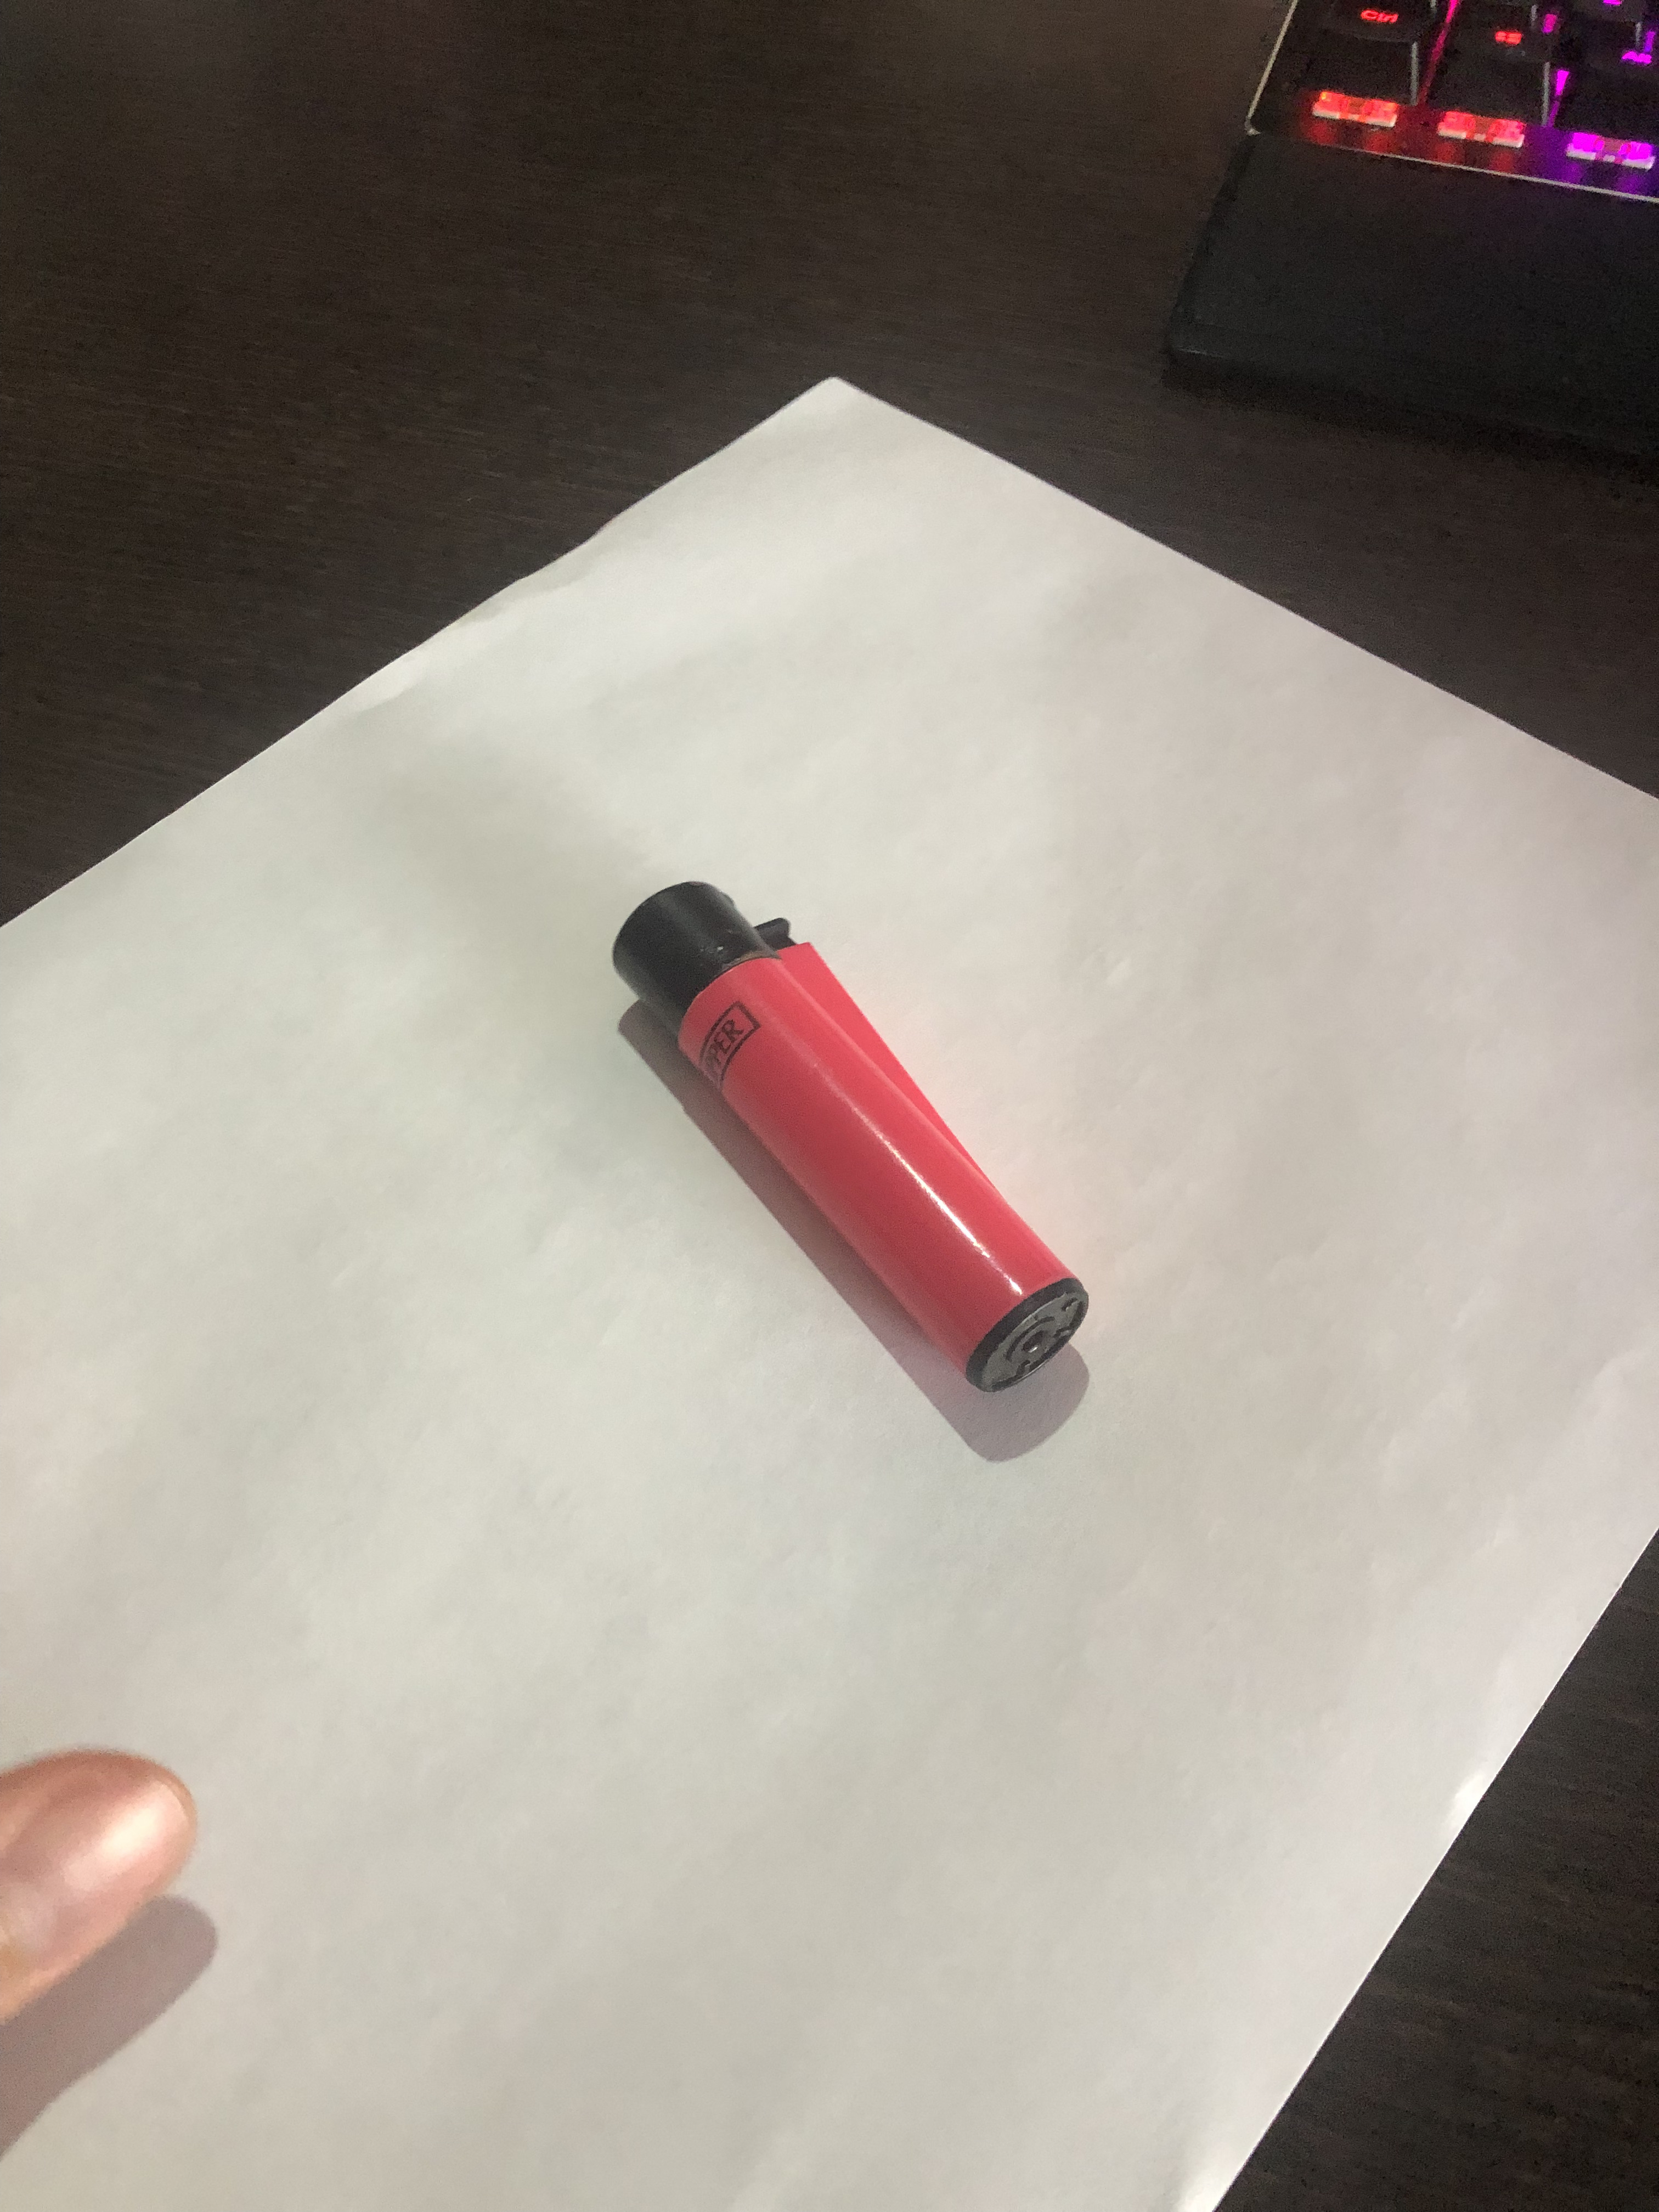Mechero: (558, 866, 1143, 1423)
